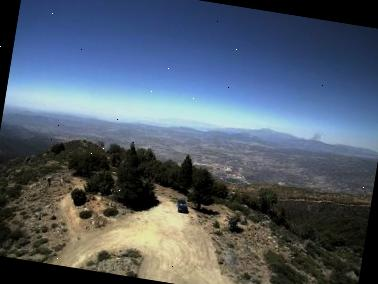smoke: (301, 127, 326, 145)
